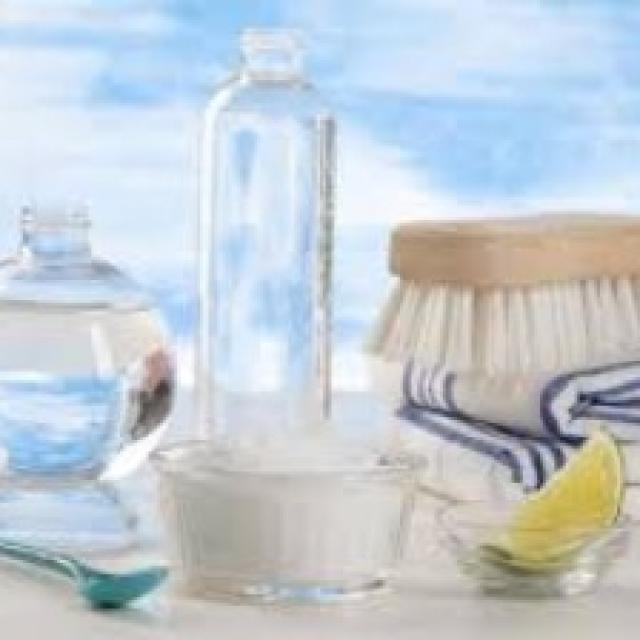glass: (1, 192, 185, 477), (139, 445, 437, 608), (454, 520, 625, 605)
plastic_bottle: (192, 23, 336, 448)
